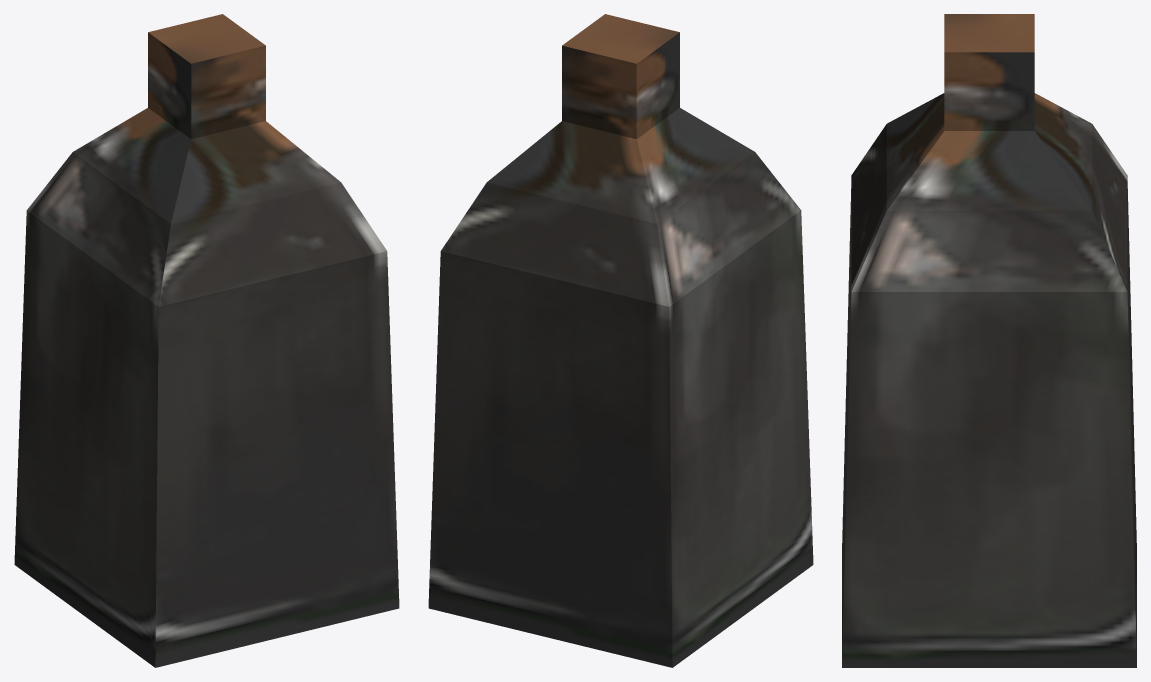
File: bottle_05.FBX
The picture shows the model from 3 angles, left to right: view 1: azimuth 30°, elevation 25°; view 2: azimuth 150°, elevation 25°; view 3: azimuth 270°, elevation 25°; orthographic projection. The views are drawn at different scales.
Visible parts, largest first — view 1: bottle_05; view 2: bottle_05; view 3: bottle_05.
Part boxes in pixels (x1,y1,x2,y2): bottle_05: (14, 14, 399, 667); bottle_05: (428, 14, 813, 667); bottle_05: (842, 14, 1136, 667).
Bounding box in the file's own units: 0.2317 × 0.4968 × 0.2317.
